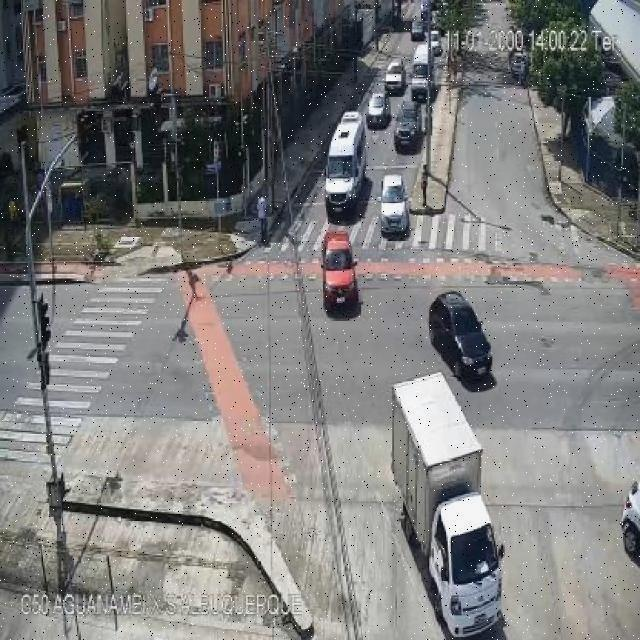Car: (425, 289, 496, 378), (320, 231, 360, 310), (379, 172, 409, 236), (619, 475, 640, 559), (394, 101, 422, 150), (366, 93, 389, 128), (384, 60, 406, 94), (509, 52, 528, 84), (411, 16, 425, 42), (430, 30, 442, 55), (420, 0, 432, 22)
Truck: (387, 372, 505, 640)
Van: (323, 113, 366, 215), (411, 43, 436, 100)
